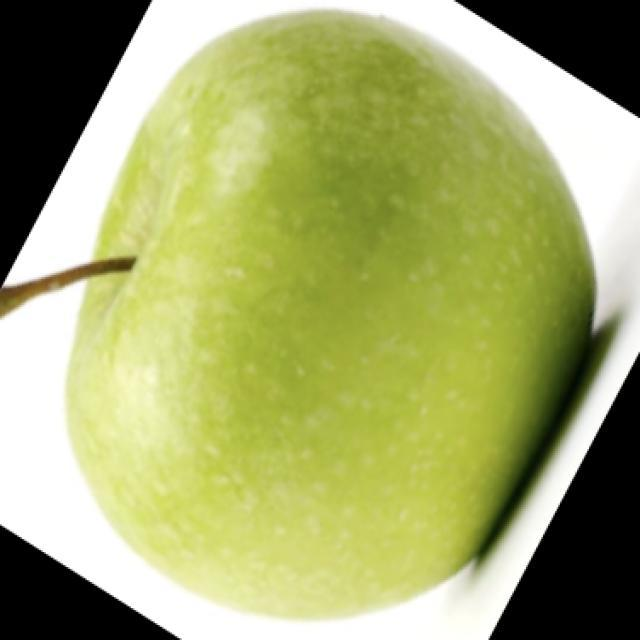Fresh Apple: (59, 24, 604, 608)
